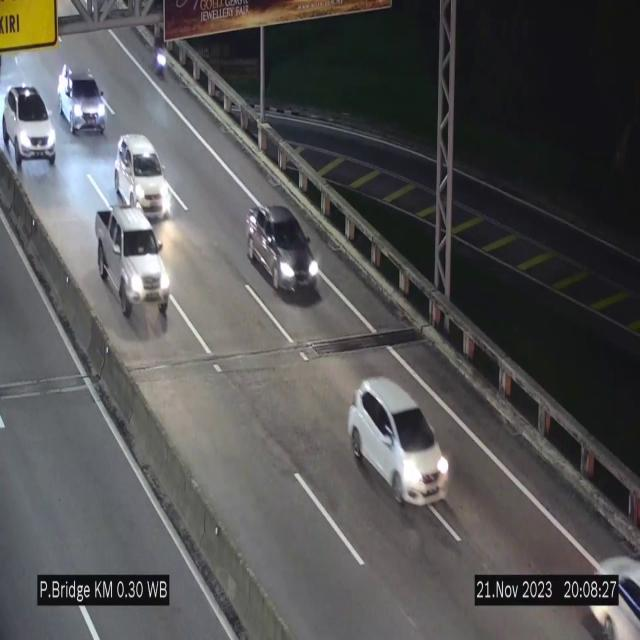Car: (348, 379, 449, 502), (95, 206, 170, 328), (247, 202, 320, 298), (583, 537, 640, 640), (115, 133, 171, 220), (4, 86, 56, 168), (58, 65, 108, 135)
Motorcycle: (150, 29, 170, 82)
